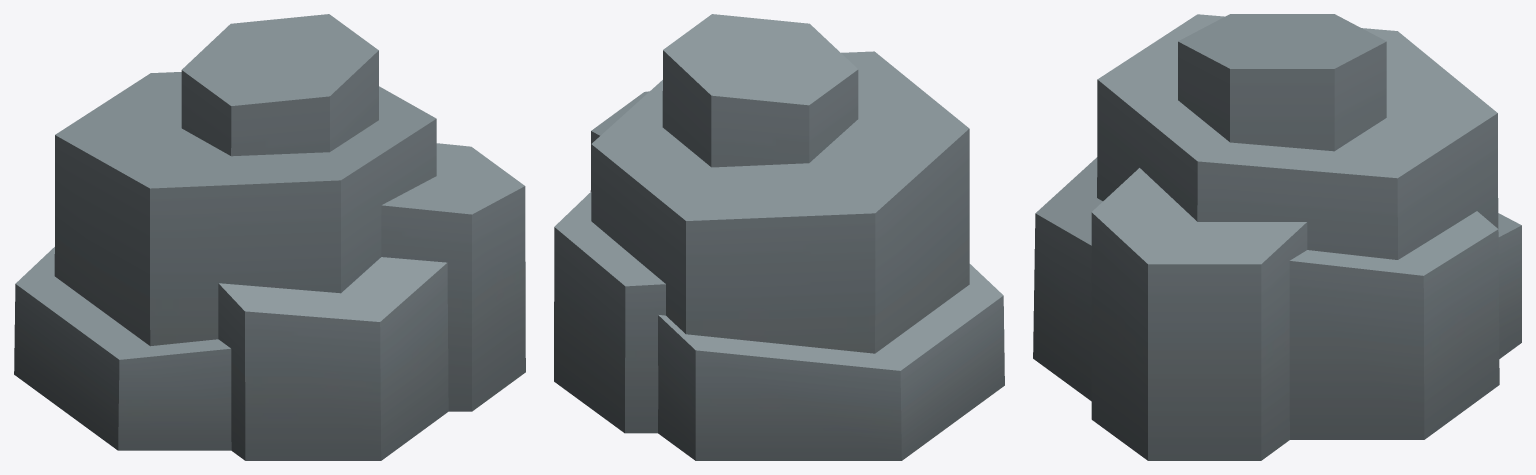
File: mountain-a.glb
3 renders of one model, left to right at view 1: azimuth 30°, elevation 25°; view 2: azimuth 150°, elevation 25°; view 3: azimuth 270°, elevation 25°, orthographic. The views are drawn at different scales.
Visible parts, largest first — view 1: mountain_A; view 2: mountain_A; view 3: mountain_A.
Part boxes in pixels (bbox=[...]): mountain_A: bbox=[14, 14, 525, 460]; mountain_A: bbox=[554, 14, 1004, 460]; mountain_A: bbox=[1033, 14, 1521, 460].
Bounding box in the file's own units: 1.8 × 1.43 × 1.88.
1 material, 1 textured.
